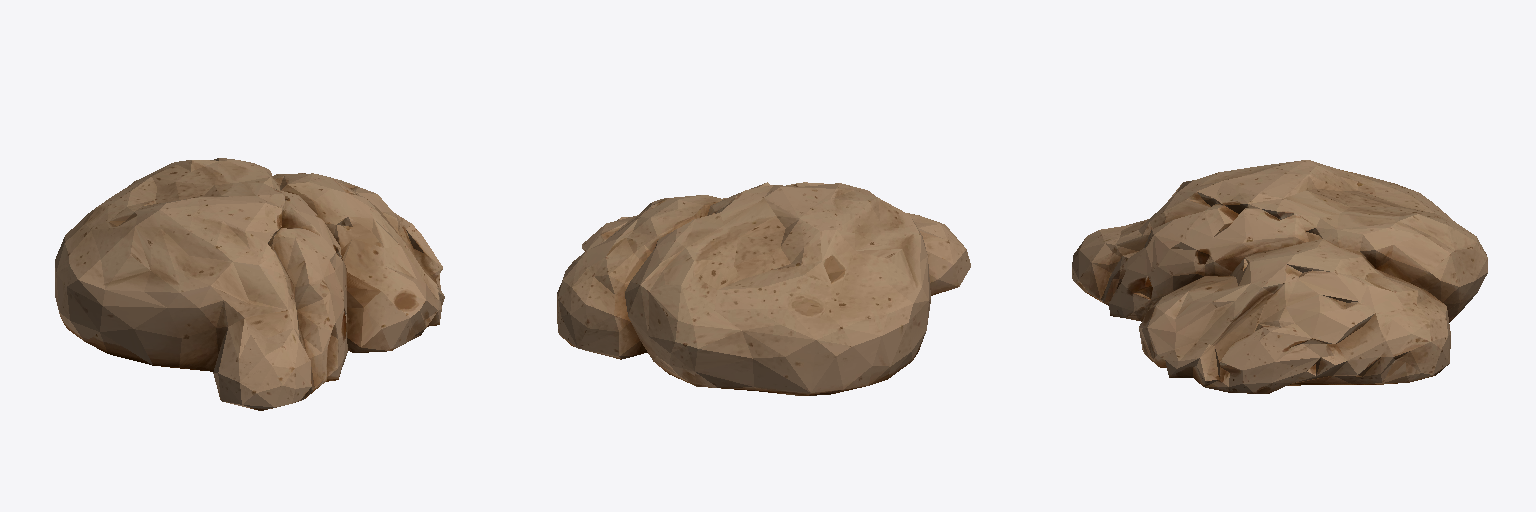
3 renders of one model, left to right at view 1: azimuth 30°, elevation 25°; view 2: azimuth 150°, elevation 25°; view 3: azimuth 270°, elevation 25°, orthographic.
Parts seen in each view (by area): view 1: tripo_node_55c460d0-b7c3-433e-9c94-f1c664639ab9; view 2: tripo_node_55c460d0-b7c3-433e-9c94-f1c664639ab9; view 3: tripo_node_55c460d0-b7c3-433e-9c94-f1c664639ab9.
Part boxes in pixels (x1,y1,x2,y2): tripo_node_55c460d0-b7c3-433e-9c94-f1c664639ab9: (55, 158, 444, 410); tripo_node_55c460d0-b7c3-433e-9c94-f1c664639ab9: (557, 182, 970, 395); tripo_node_55c460d0-b7c3-433e-9c94-f1c664639ab9: (1072, 160, 1487, 393).
Size of the model in its own units: 0.915 by 0.3253 by 0.9996.
Materials: 1 (1 with a texture image).